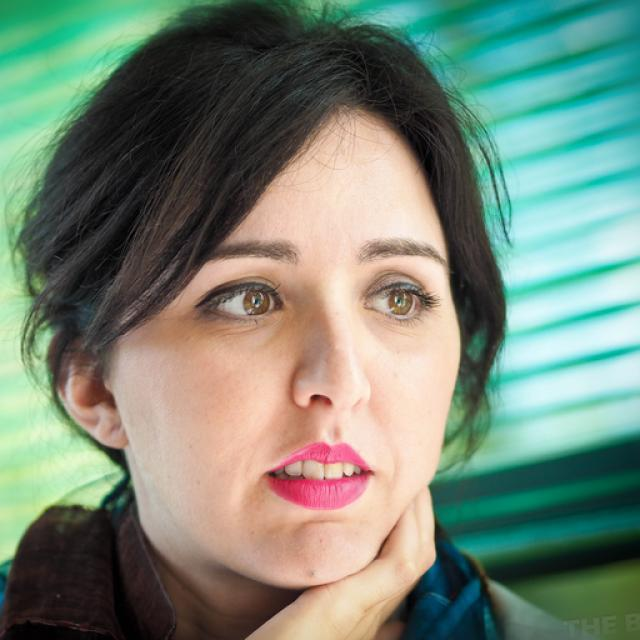disgust: (115, 101, 461, 589)
